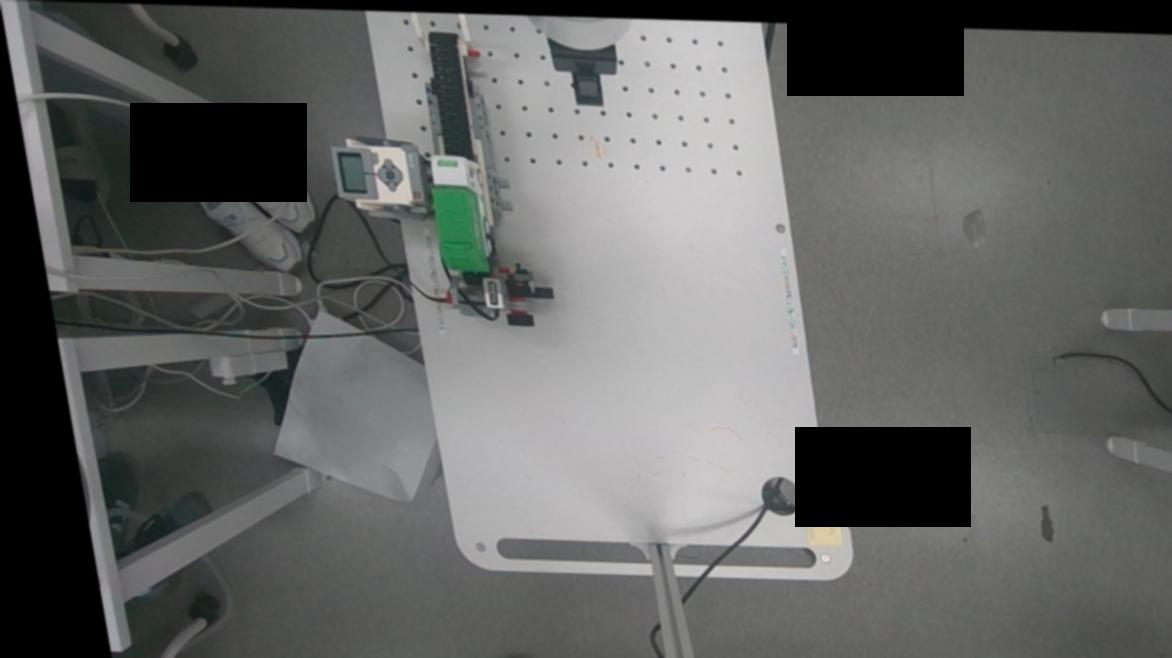truck: (404, 140, 520, 289)
